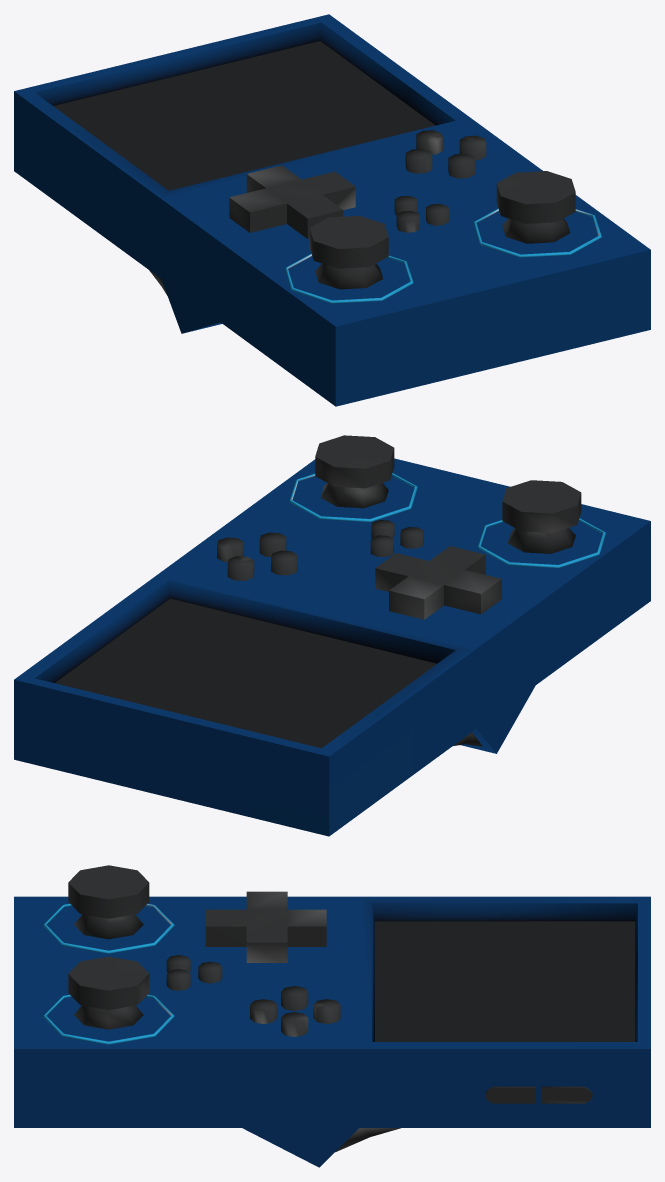
The model's file is ConsolePortatil.fbx.
3 renders of one model, top to bottom at view 1: azimuth 30°, elevation 25°; view 2: azimuth 150°, elevation 25°; view 3: azimuth 270°, elevation 25°, orthographic.
Visible parts, largest first — view 1: ConsolePortatil; view 2: ConsolePortatil; view 3: ConsolePortatil.
Boxes of the visible parts, x1,y1,x2,y2 form: ConsolePortatil: (14, 14, 650, 406); ConsolePortatil: (14, 435, 650, 836); ConsolePortatil: (14, 865, 650, 1167).
Size of the model in its own units: 7.89 by 3.9 by 13.85.
